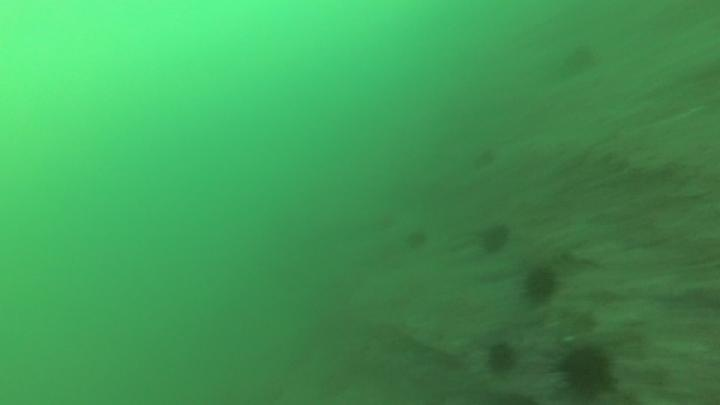echinus: (555, 342, 618, 401), (520, 263, 561, 306), (558, 41, 601, 79), (483, 339, 520, 377), (476, 221, 513, 257), (470, 145, 499, 172), (403, 226, 431, 251)
